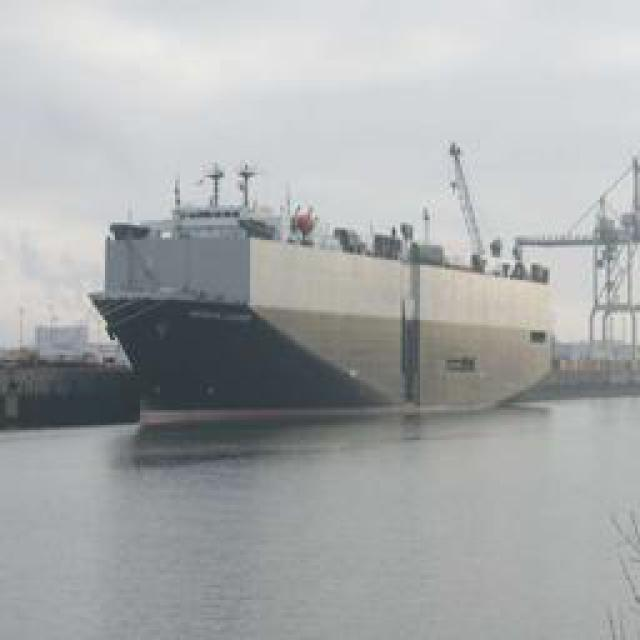Ship: (86, 149, 559, 422)
